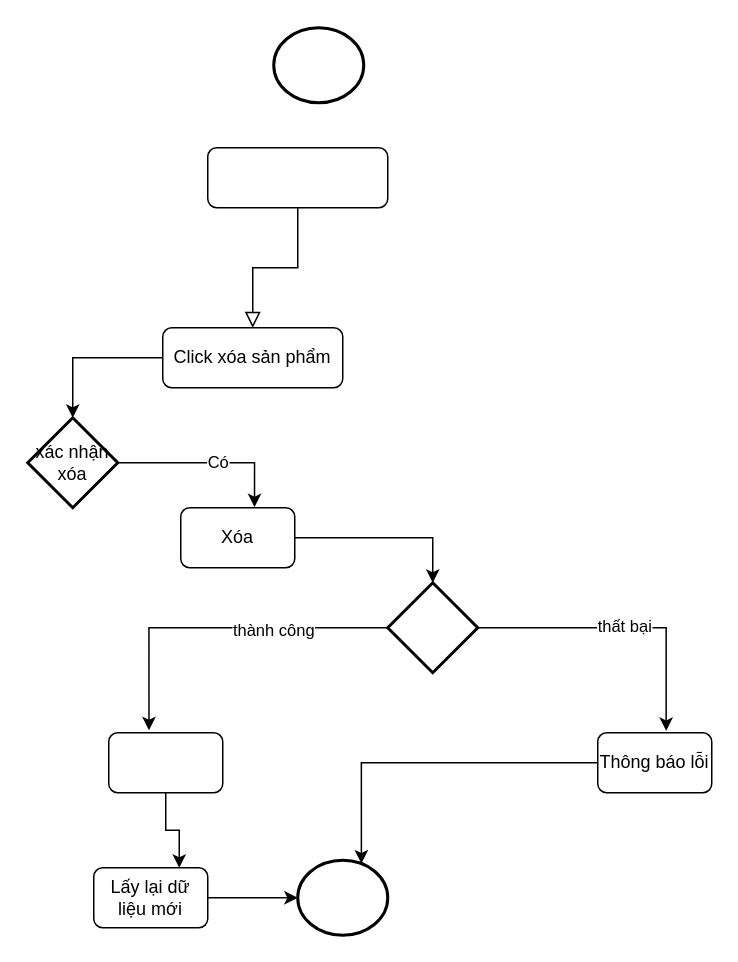
This 738x962 diagram has some shape labels left out. Each missing label, with the centre of its shape:
"Danh sách sản phẩm" belongs at point (297, 177).
"Thông báo thành công" belongs at point (165, 762).
